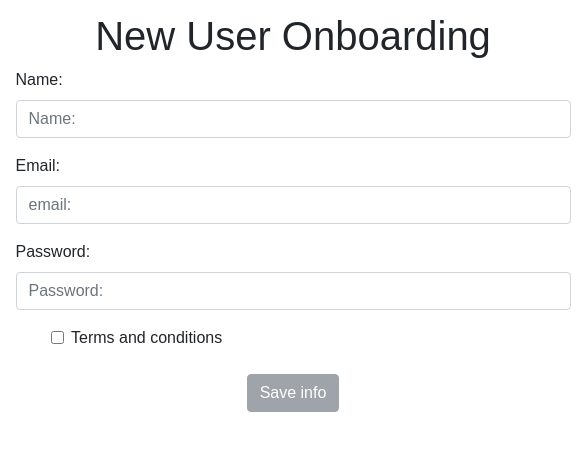
Test case: Testing our Form › Gets the checkbox attribute of terms and checks the box
The image size is (588, 452).
What coordinates should you click on to do the following:
check the checkbox with test id "checkbox"
I would click on:
 (58, 338)
Its box is [51, 331, 64, 344].
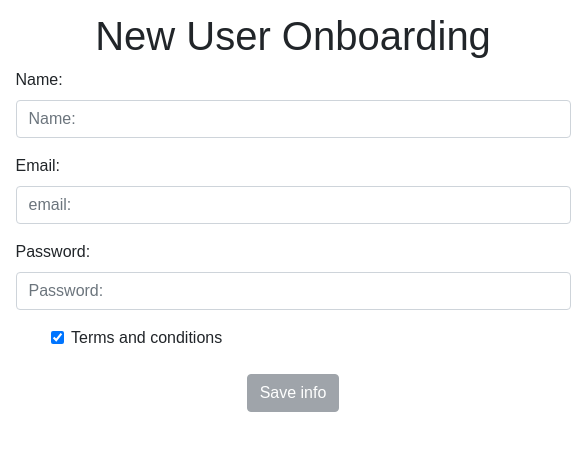
Expected: the checkbox with test id "checkbox" is checked
What coordinates should you click on to do the following:
uncheck the checkbox with test id "checkbox"
I would click on:
 (58, 338)
Its box is [51, 331, 64, 344].
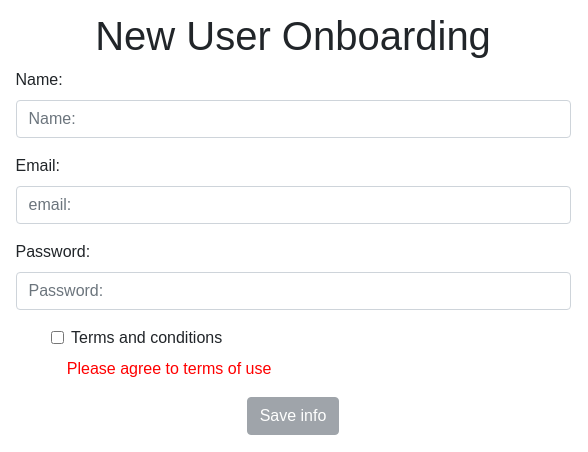
Expected: the button with test id "submit" is disabled, [247, 397, 340, 435]
Expected: the text "Please agree to terms of use" is shown, [67, 357, 271, 381]
